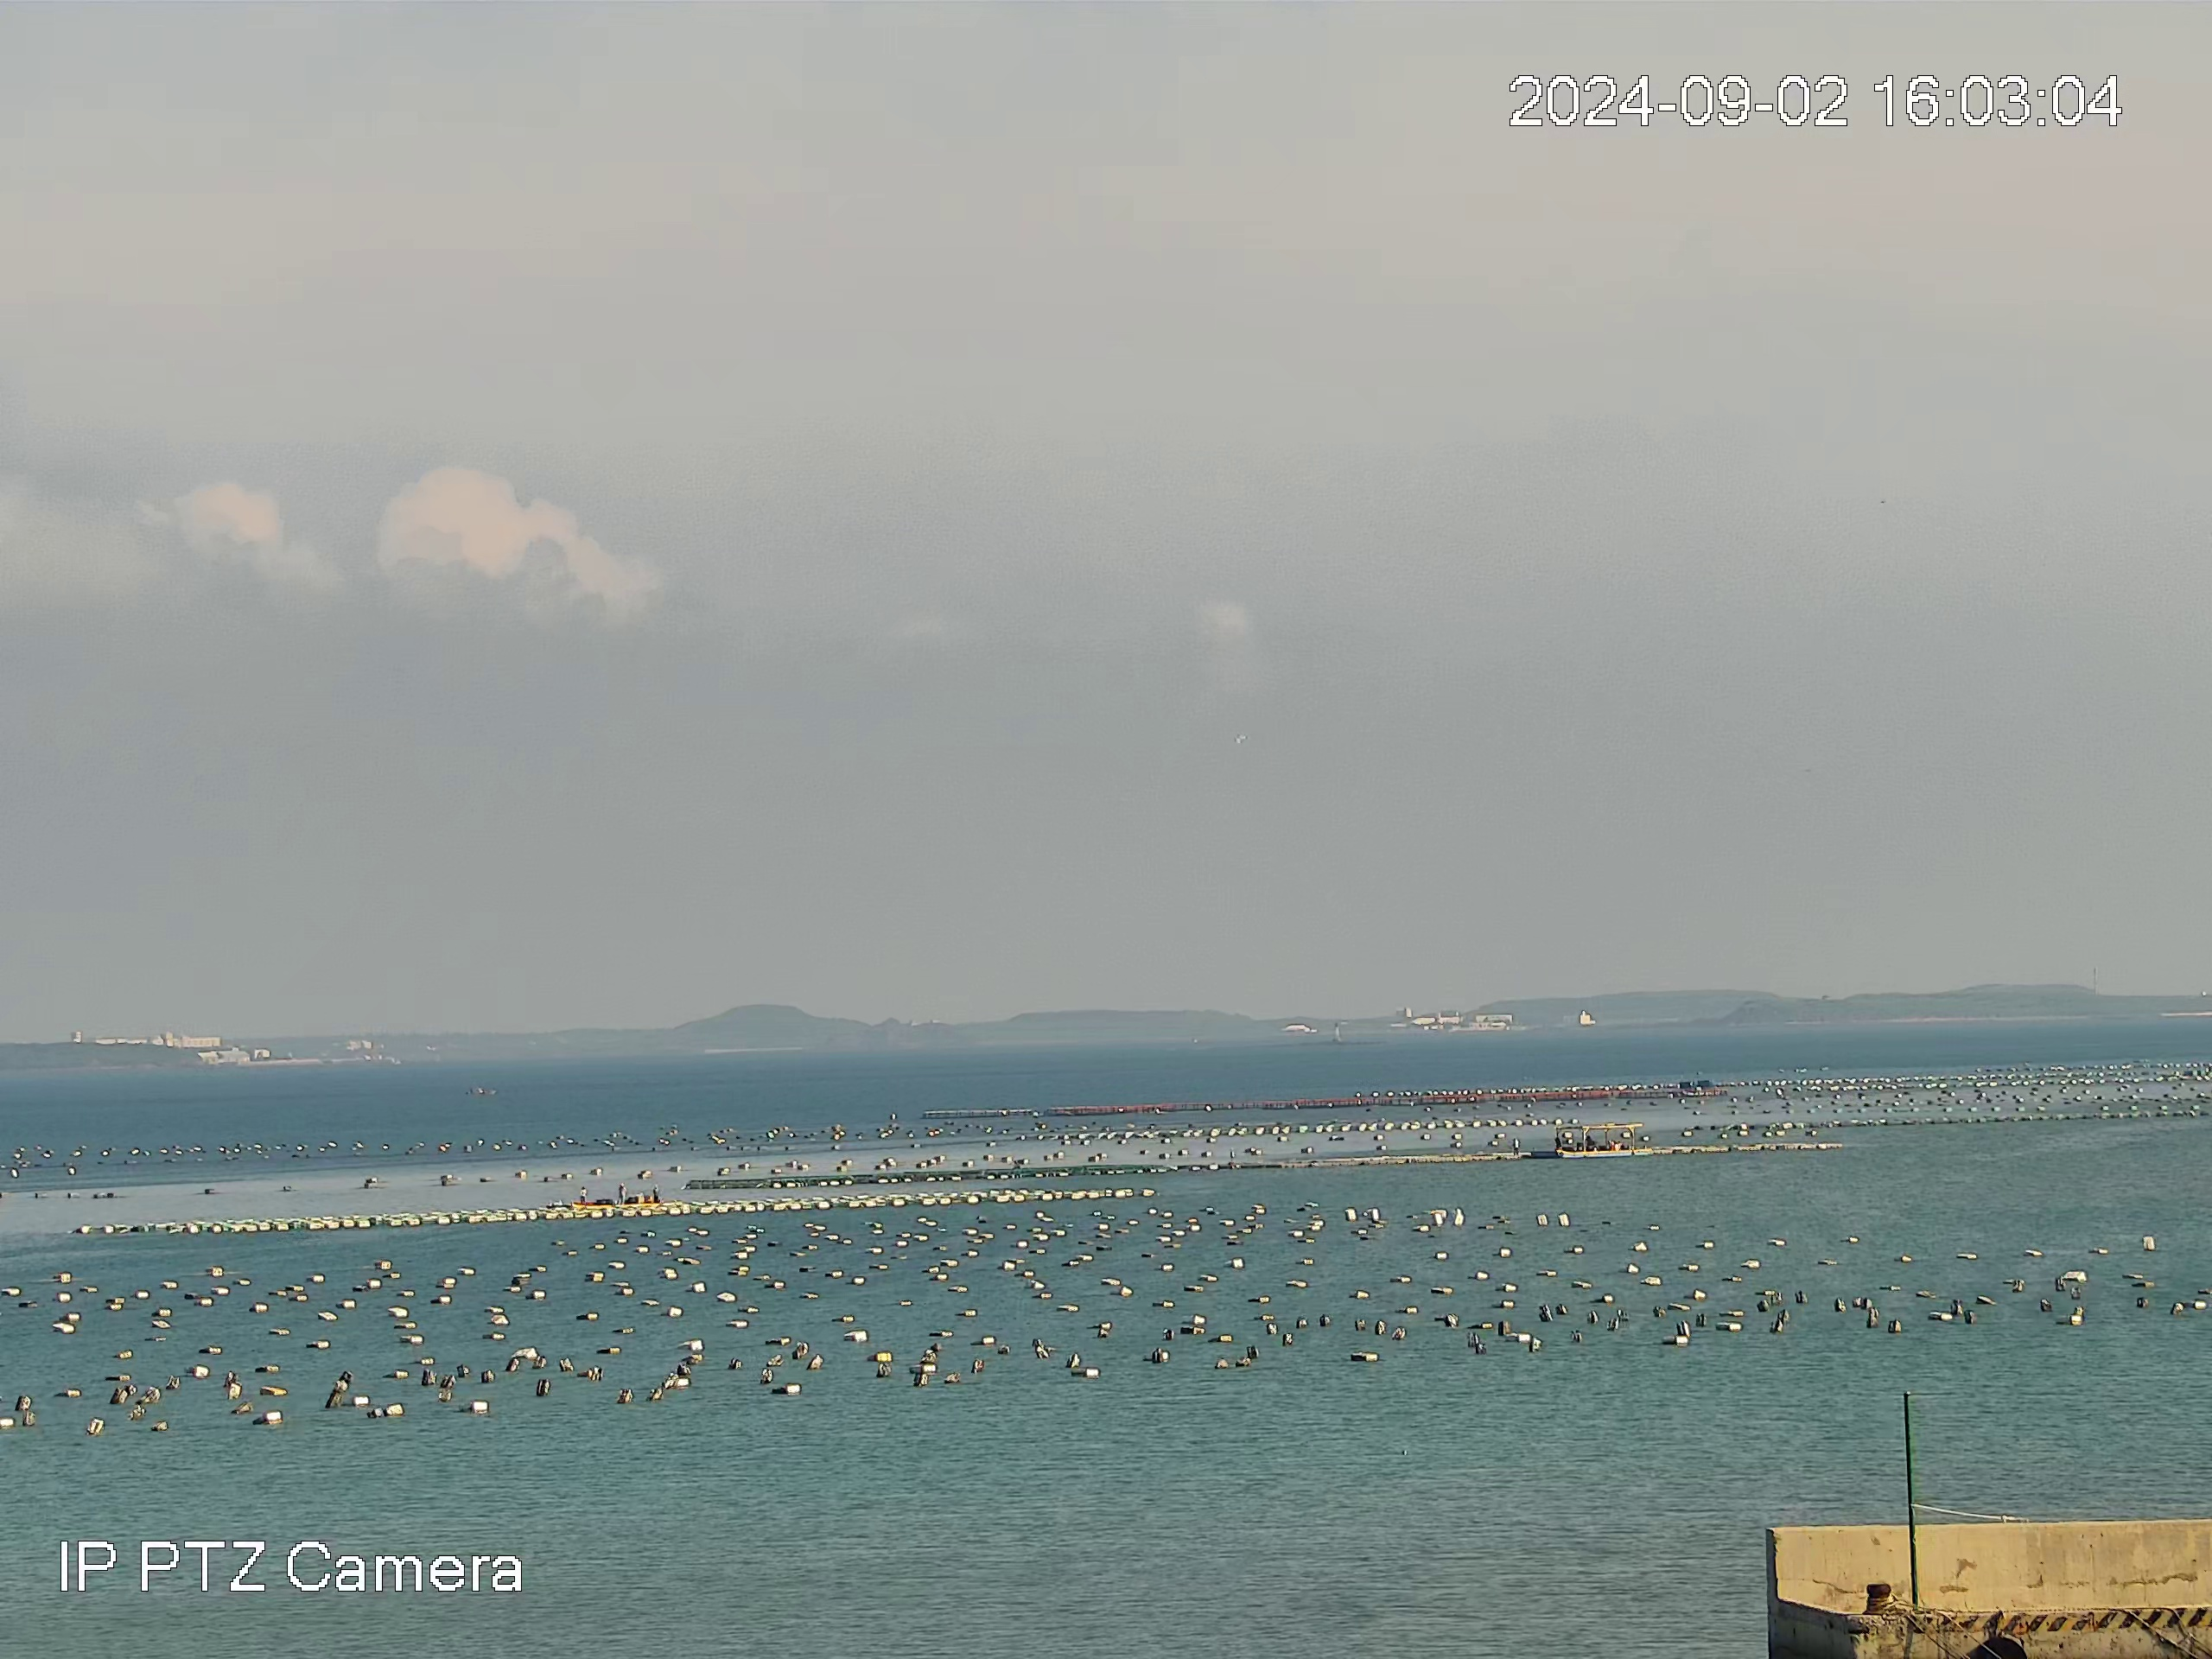boat: (1554, 1122, 1655, 1159), (570, 1183, 664, 1209), (463, 1084, 498, 1098)
